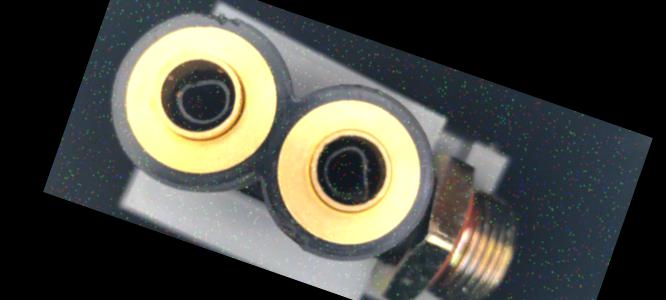bump: (261, 213, 320, 262), (184, 2, 249, 40)
off-centered: (154, 54, 248, 145), (311, 135, 390, 212)
